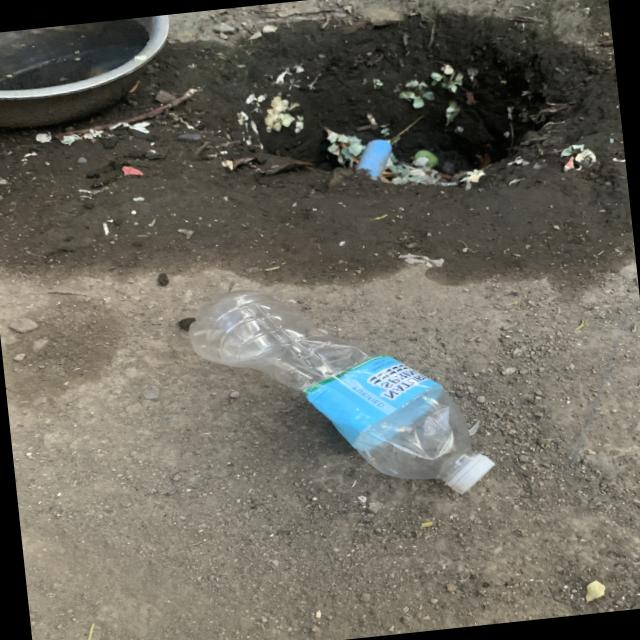Bottle: (178, 284, 494, 494)
